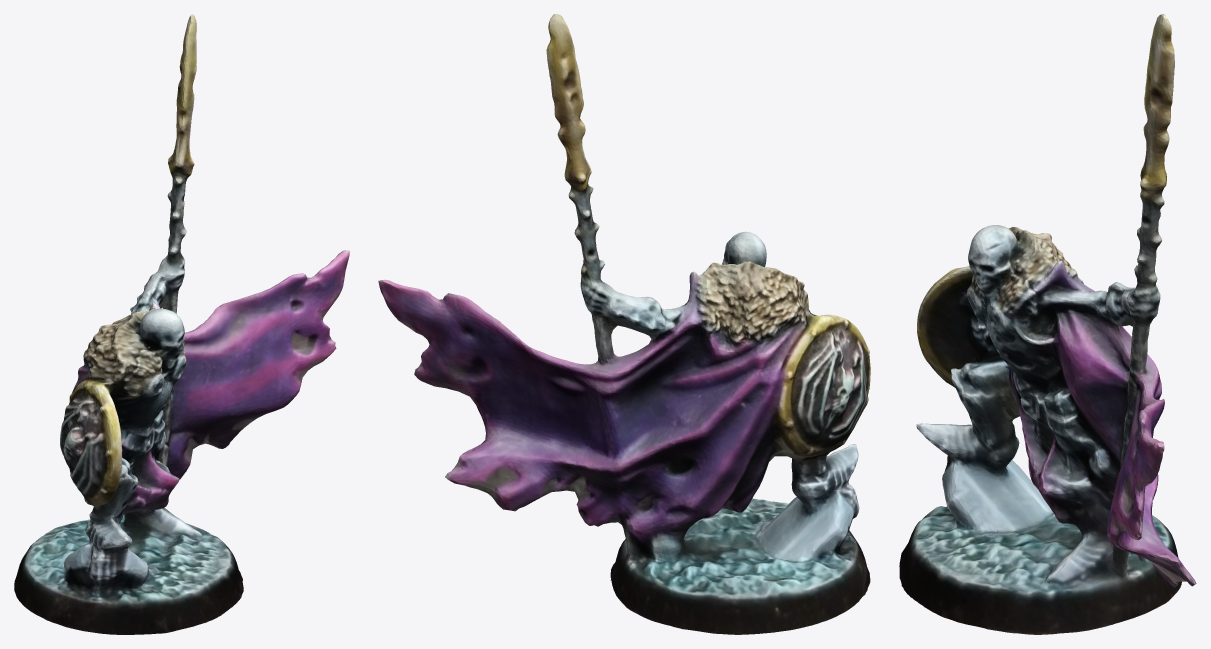
File: underworlds.sepulchral.the-warden.glb
3 renders of one model, left to right at view 1: azimuth 30°, elevation 25°; view 2: azimuth 150°, elevation 25°; view 3: azimuth 270°, elevation 25°, orthographic. The views are drawn at different scales.
Bounding box in the file's own units: 0.462 × 0.6077 × 0.2609.
Materials: 1 (1 with a texture image).
